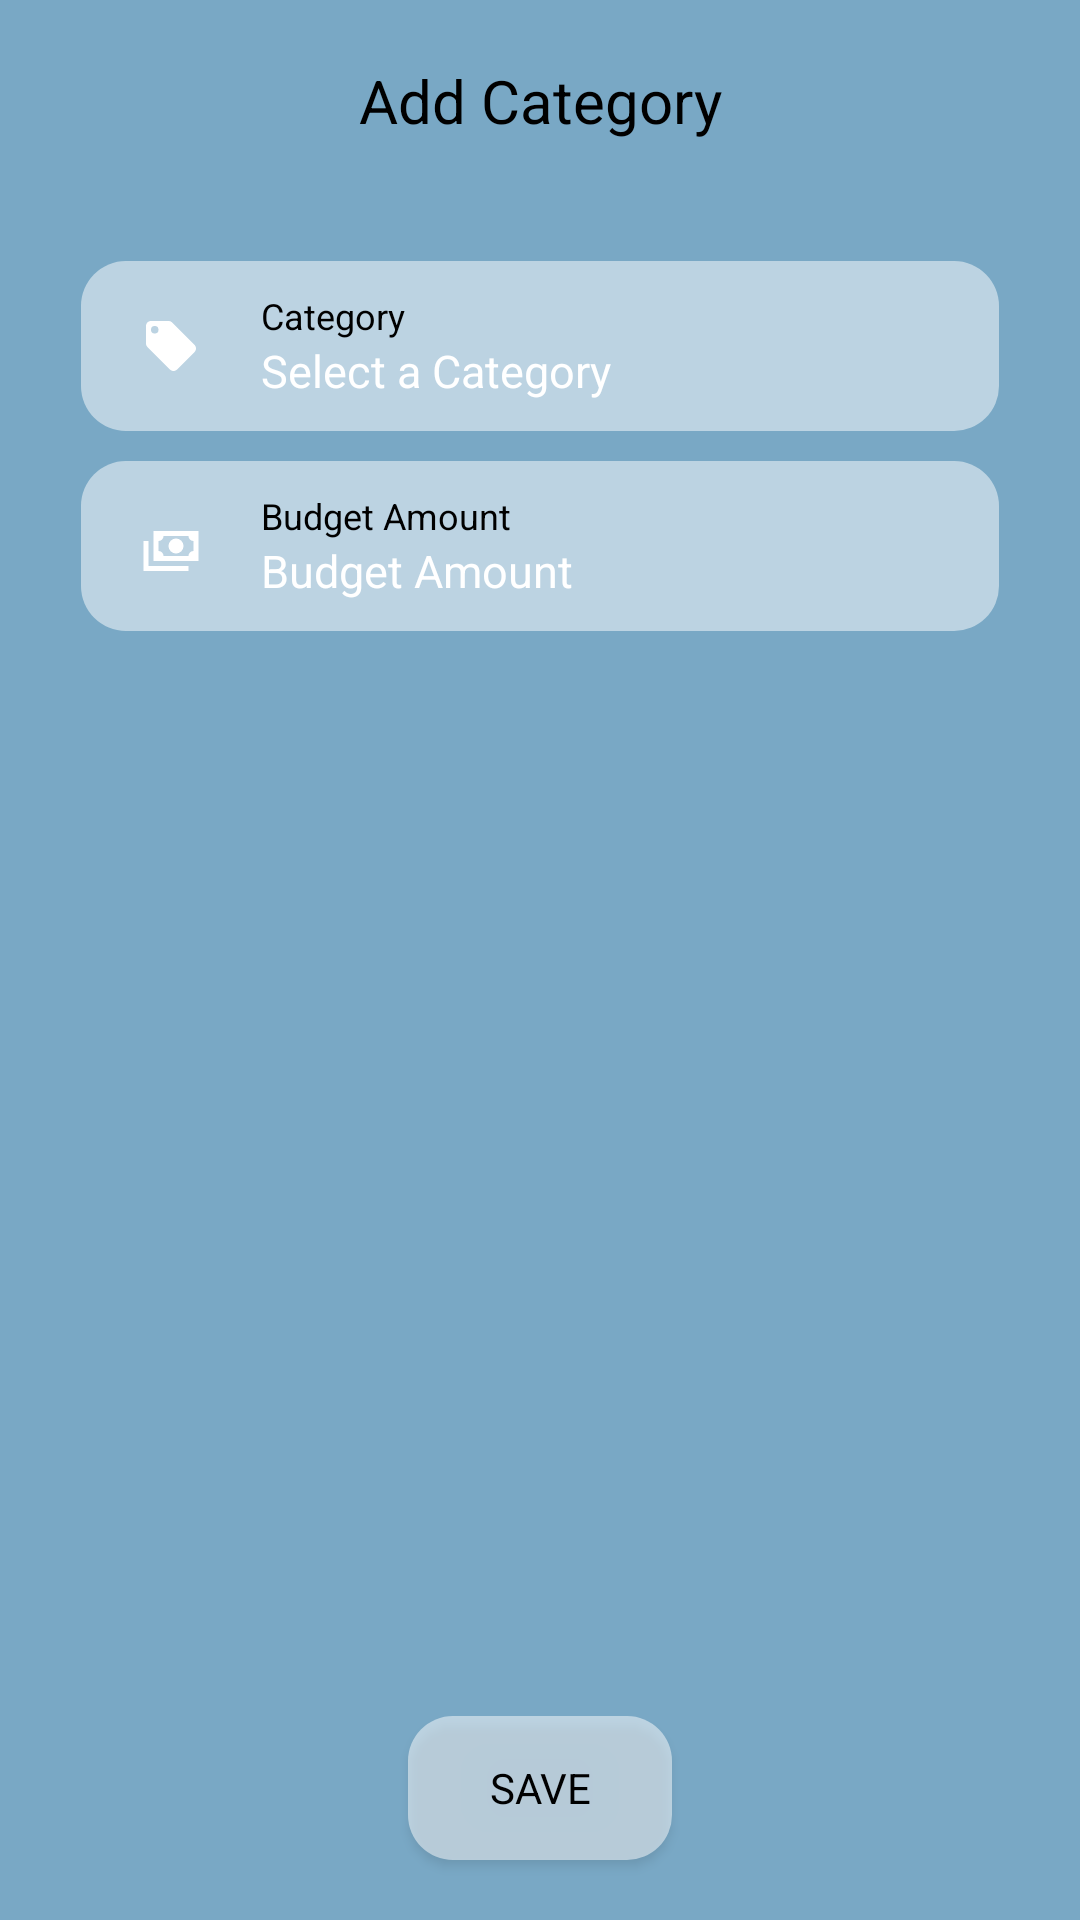

Screen size 1080w x 1920h. Icon name, then its center in pixels as (x,y):
cash: (171,551)
tag: (171,346)
